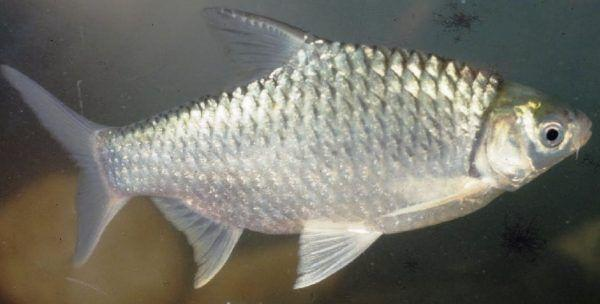Silver Barb: (1, 6, 596, 292)
